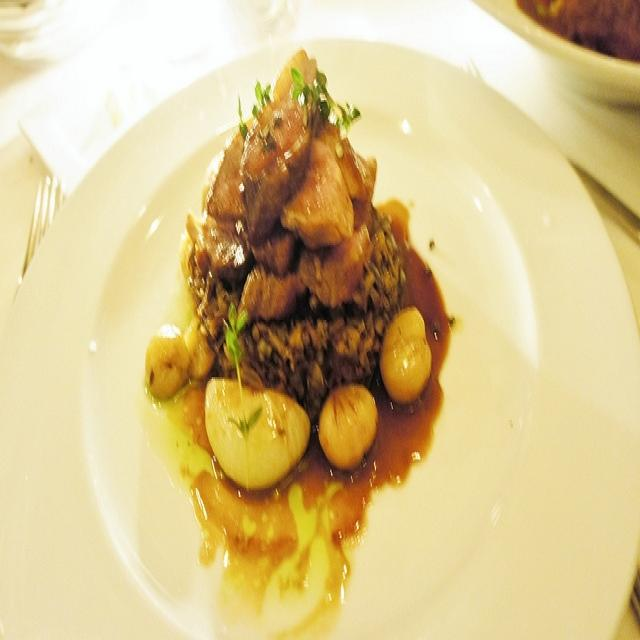米饭主食: (134, 45, 476, 581)
